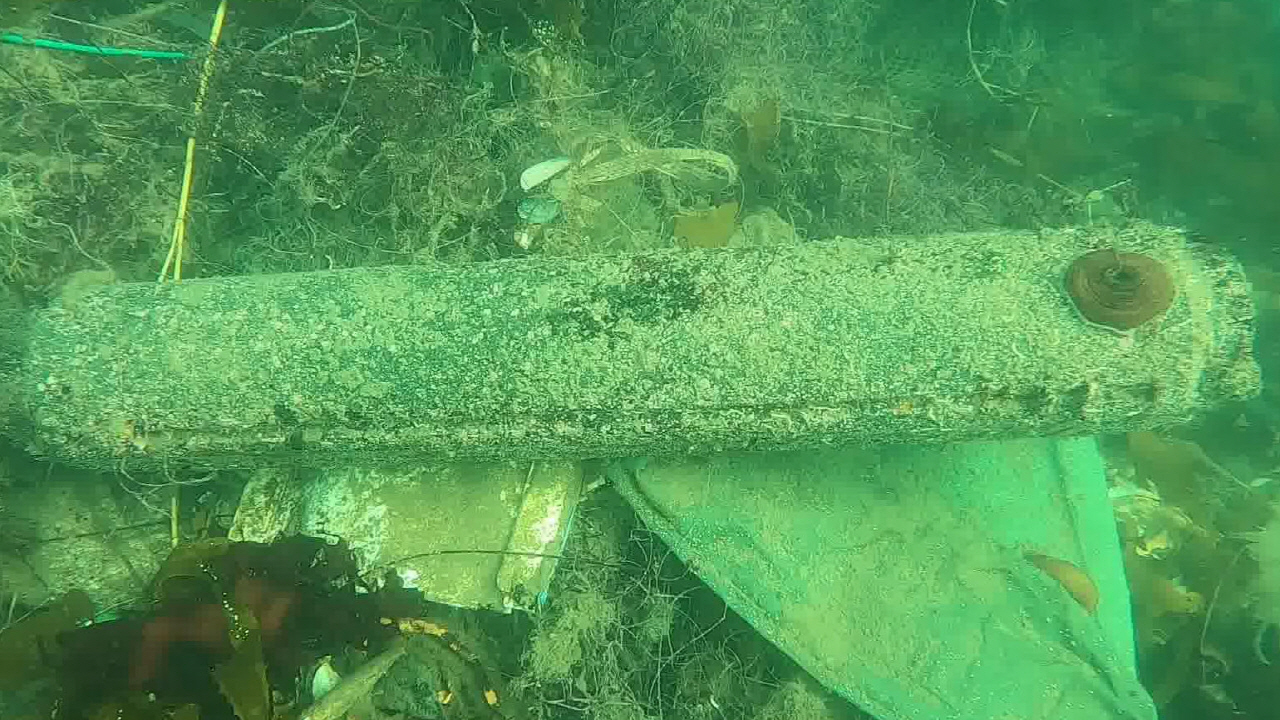eel fish trap: (0, 220, 1262, 473)
